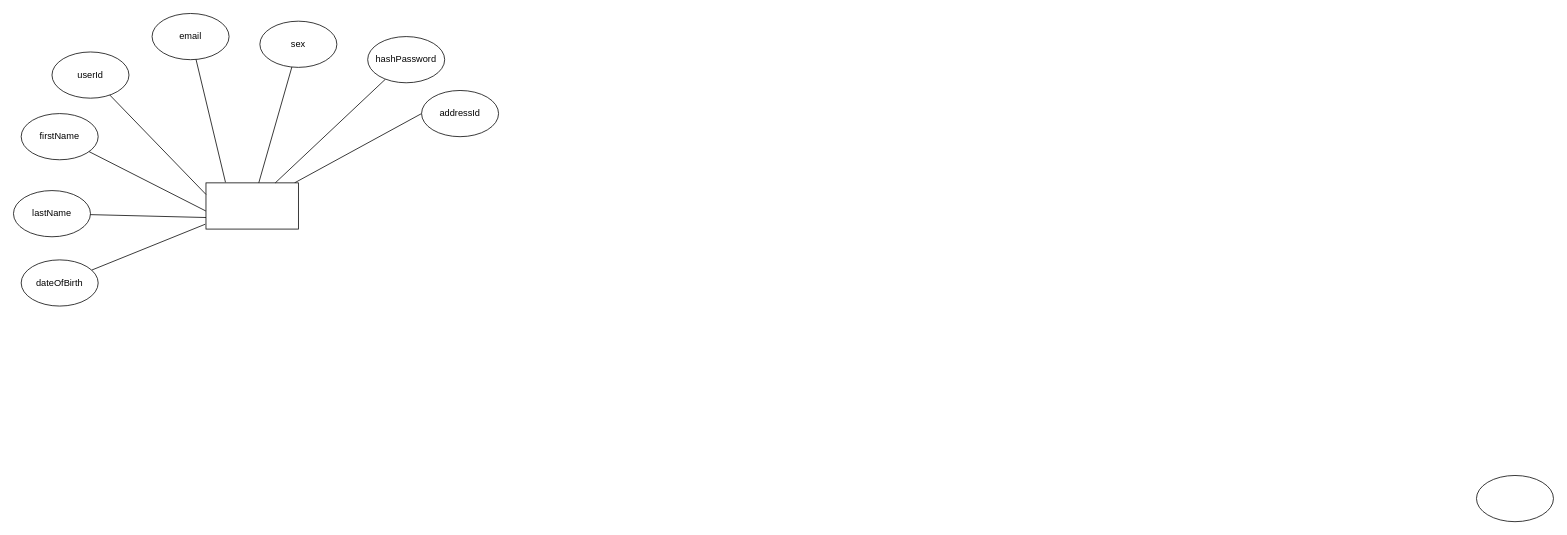
The diagram is 1567 pixels wide and 535 high, and some of its shapes have lost their labels. Each missing label, with the centre of its shape:
name: pixel 1514 498
profile: pixel 251 205
